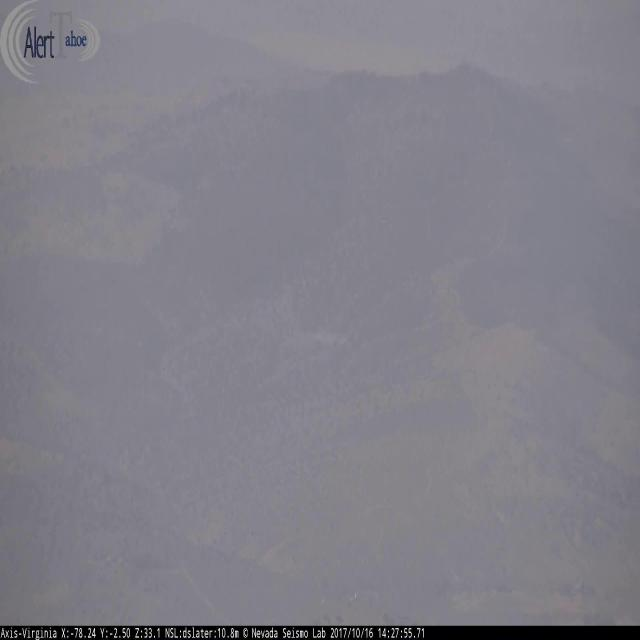smoke: (286, 304, 356, 354)
